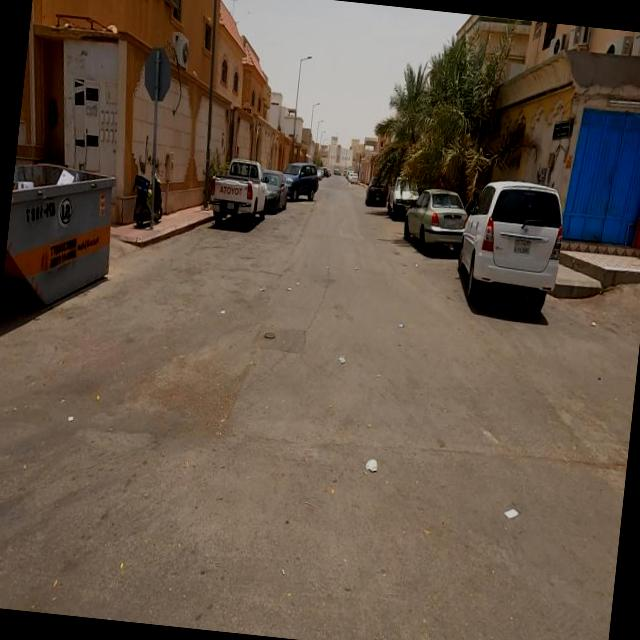debris: (474, 470, 544, 556), (341, 421, 405, 515), (309, 324, 379, 404)
